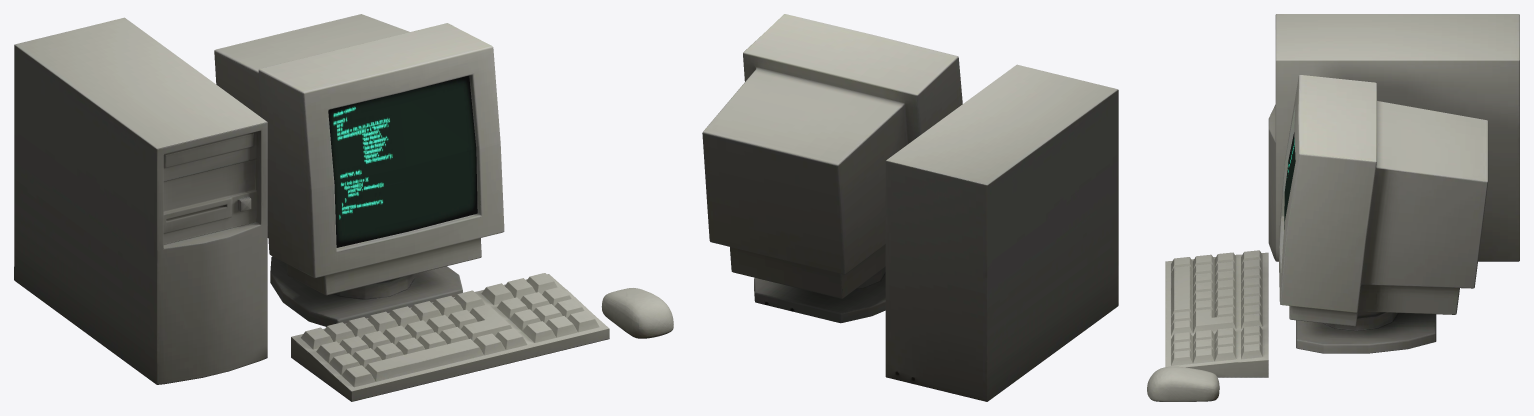
File: retro_pc_with_screen.glb
The picture shows the model from 3 angles, left to right: view 1: azimuth 30°, elevation 25°; view 2: azimuth 150°, elevation 25°; view 3: azimuth 270°, elevation 25°; orthographic projection. The views are drawn at different scales.
Parts seen in each view (by area): view 1: Cube.005_BakedCabinet_0, Cube_BakedPCBody_0, Cube.004_BakedMouseKeyboard_0, Cube_BakedScreen_0; view 2: Cube.005_BakedCabinet_0, Cube_BakedPCBody_0; view 3: Cube_BakedPCBody_0, Cube.005_BakedCabinet_0, Cube.004_BakedMouseKeyboard_0, Cube_BakedScreen_0.
Boxes of the visible parts, <box> form: Cube.005_BakedCabinet_0: <box>14,17,267,384</box>; Cube_BakedPCBody_0: <box>214,14,504,326</box>; Cube.004_BakedMouseKeyboard_0: <box>291,273,673,401</box>; Cube_BakedScreen_0: <box>328,75,477,247</box>; Cube.005_BakedCabinet_0: <box>885,64,1118,401</box>; Cube_BakedPCBody_0: <box>702,14,962,323</box>; Cube_BakedPCBody_0: <box>1279,75,1488,353</box>; Cube.005_BakedCabinet_0: <box>1268,14,1519,261</box>; Cube.004_BakedMouseKeyboard_0: <box>1147,250,1268,401</box>; Cube_BakedScreen_0: <box>1284,132,1295,229</box>.
Bounding box in the file's own units: 5.22 × 2.73 × 4.41.
4 materials, 4 textured.
